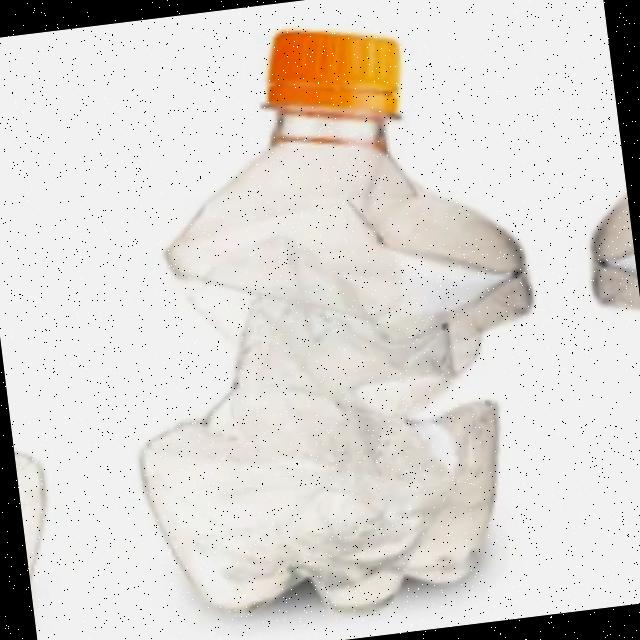Plastic: (89, 0, 580, 633), (542, 0, 640, 577), (0, 38, 62, 640)
